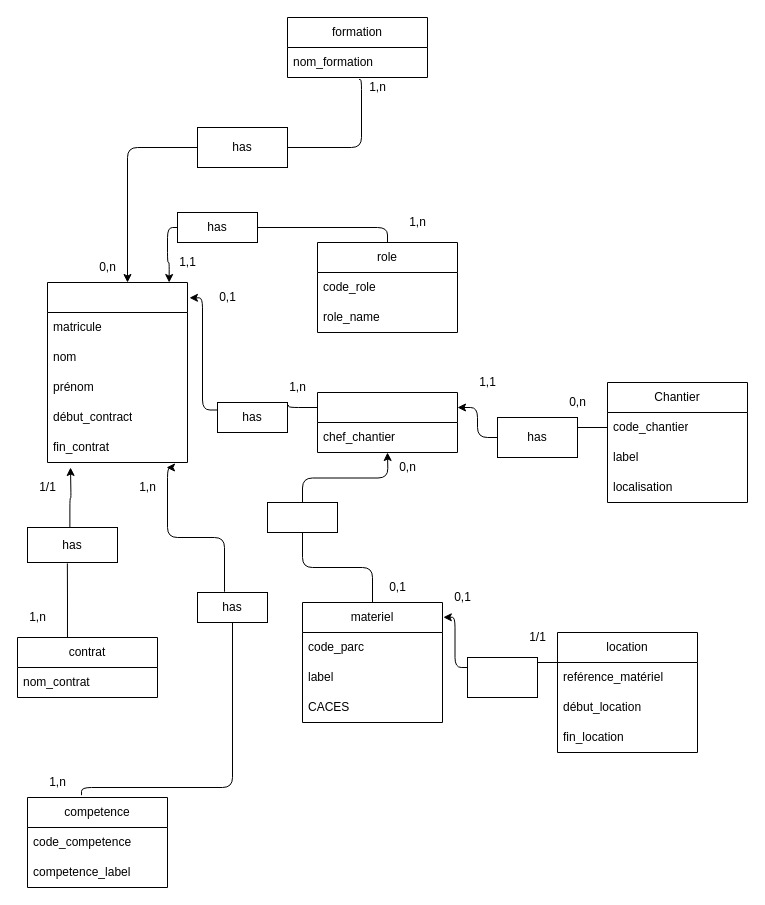
Image size: 765x905. Some labels were removed from this diagram. Here are the shapes that lost their labels. From the top down, the box of each, then its label:
(46, 282, 188, 462): Salarié
(316, 392, 458, 452): equipe
(266, 502, 338, 532): belong
(466, 656, 538, 698): is
